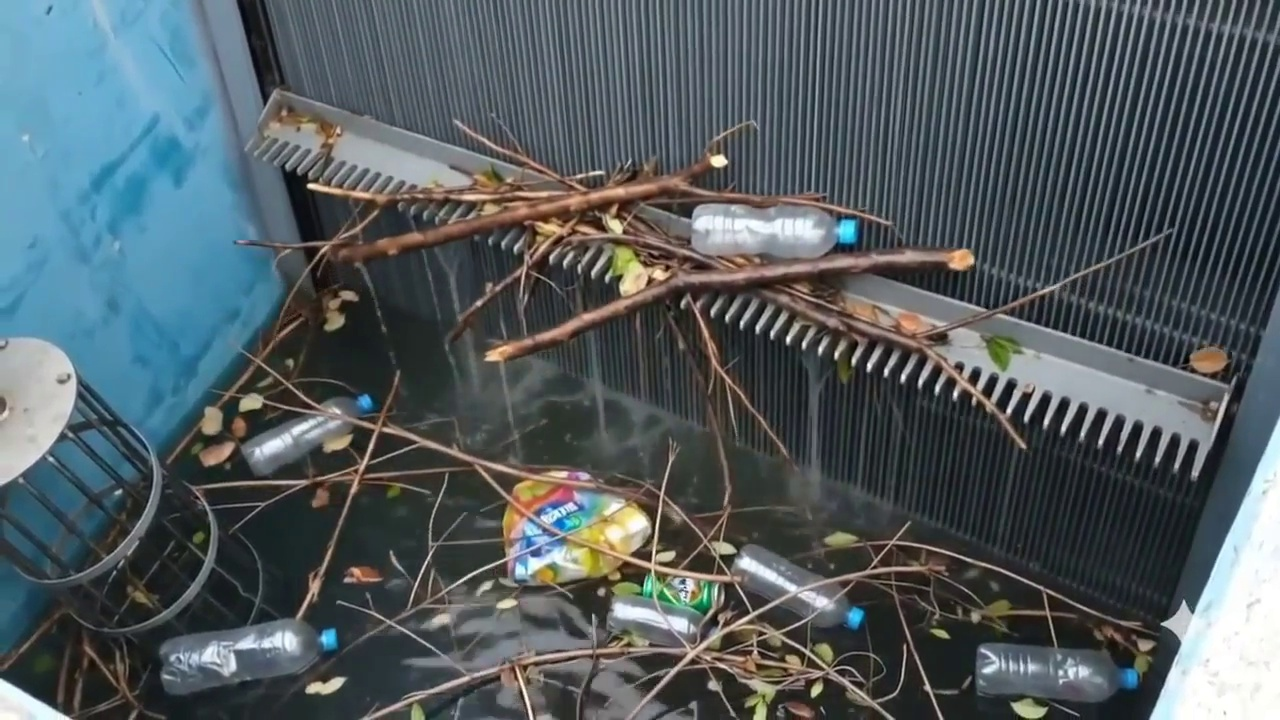debris: (390, 471, 1072, 717), (503, 479, 651, 584), (162, 619, 338, 694), (731, 545, 864, 629), (246, 395, 374, 473), (976, 643, 1139, 702), (691, 203, 857, 258), (606, 576, 719, 646), (732, 545, 824, 600), (778, 585, 864, 630), (1188, 346, 1229, 374), (198, 440, 236, 466), (1010, 698, 1048, 719), (305, 676, 346, 695), (343, 566, 383, 583), (200, 406, 223, 435), (321, 433, 353, 452), (823, 531, 858, 547), (238, 393, 265, 413), (812, 642, 834, 664), (323, 309, 344, 331), (425, 612, 451, 629), (310, 485, 329, 508), (612, 581, 640, 595), (230, 416, 247, 438), (711, 541, 736, 555), (495, 596, 517, 610), (475, 579, 494, 595), (654, 550, 675, 563), (929, 627, 950, 639), (385, 484, 401, 498), (191, 531, 206, 544)
